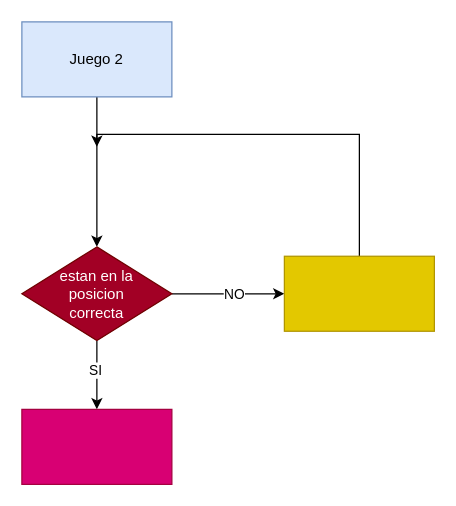
Image size: 456x506. Some labels were removed from this diagram. Here are the shapes that lost their labels. From the top down, the box of each, then its label:
(283, 255, 434, 331): Sigue intentandolo MUEVE LETRA
(21, 408, 172, 484): GANASTE
